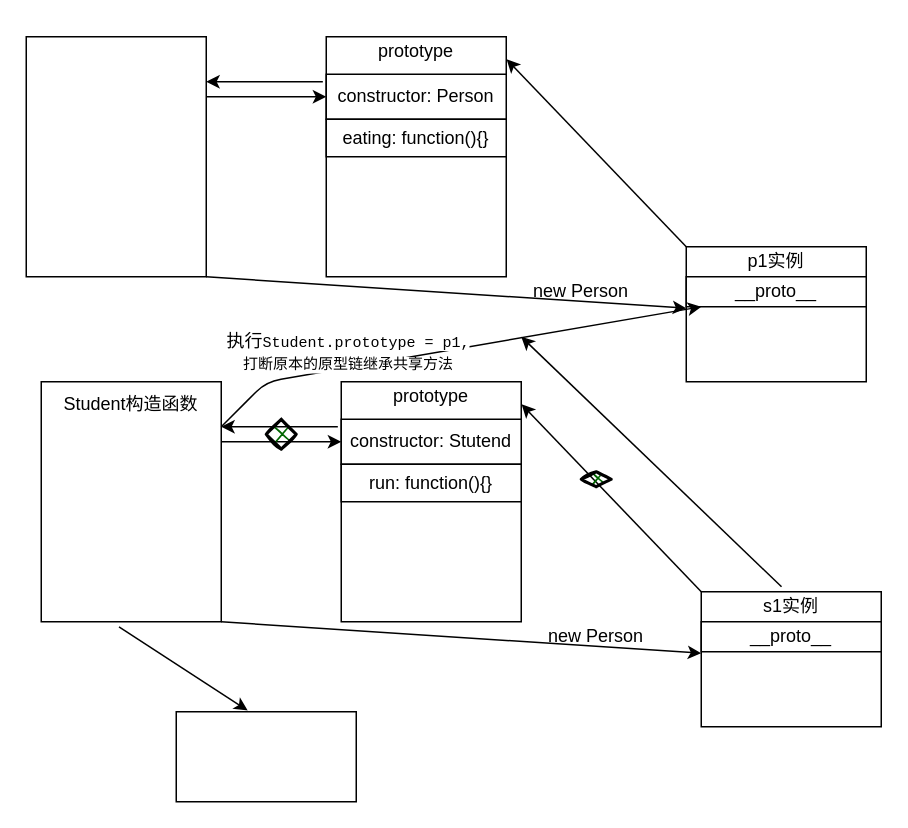
Some shapes in this 908 by 828 pixel diagram are drawn without their labels. The shapes that lost their labels are listed below. From the top down, each one's centre as x and y in pixels, then its label:
At (115,156): "Person构造函数".
At (265,756): "执行父构造函数, 继承属性".
